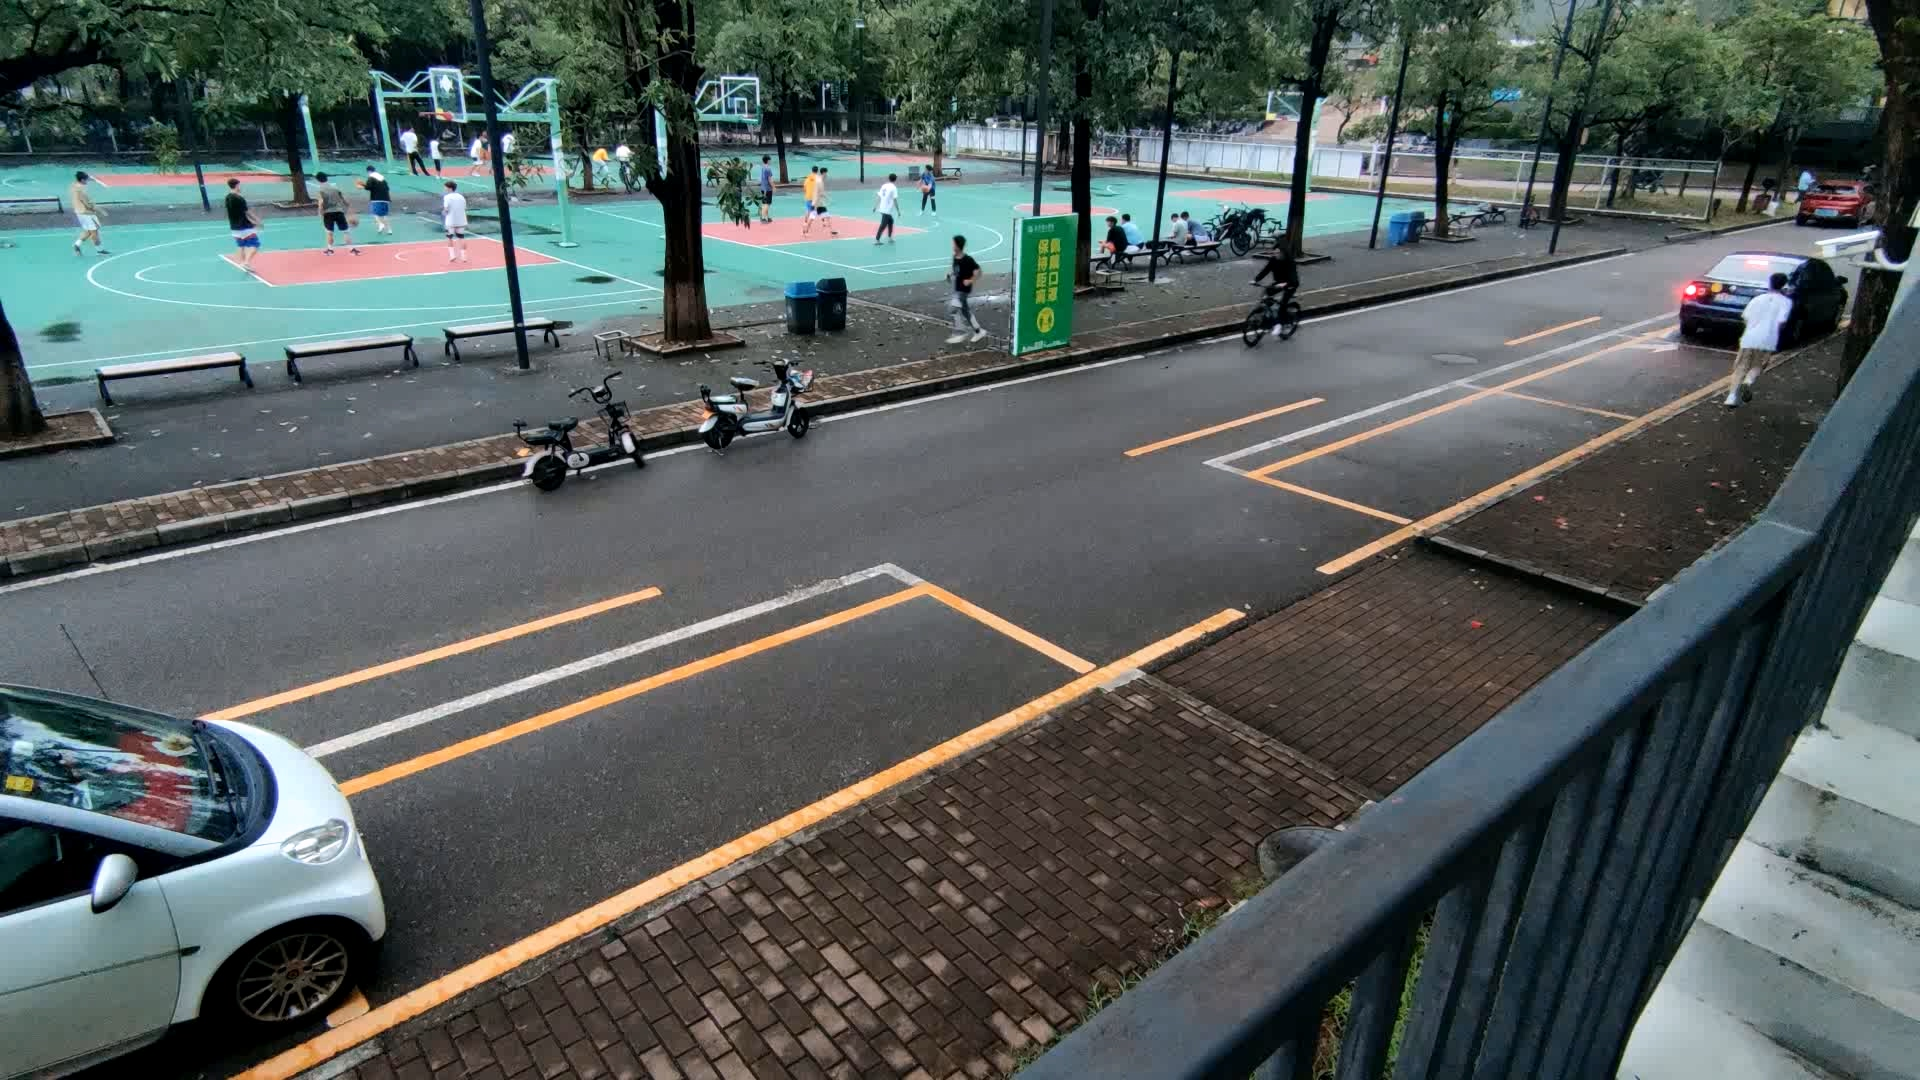space-empty: (223, 588, 1101, 1025), (1242, 382, 1655, 531), (1490, 331, 1759, 422)
space-occupied: (1633, 295, 1845, 363)
